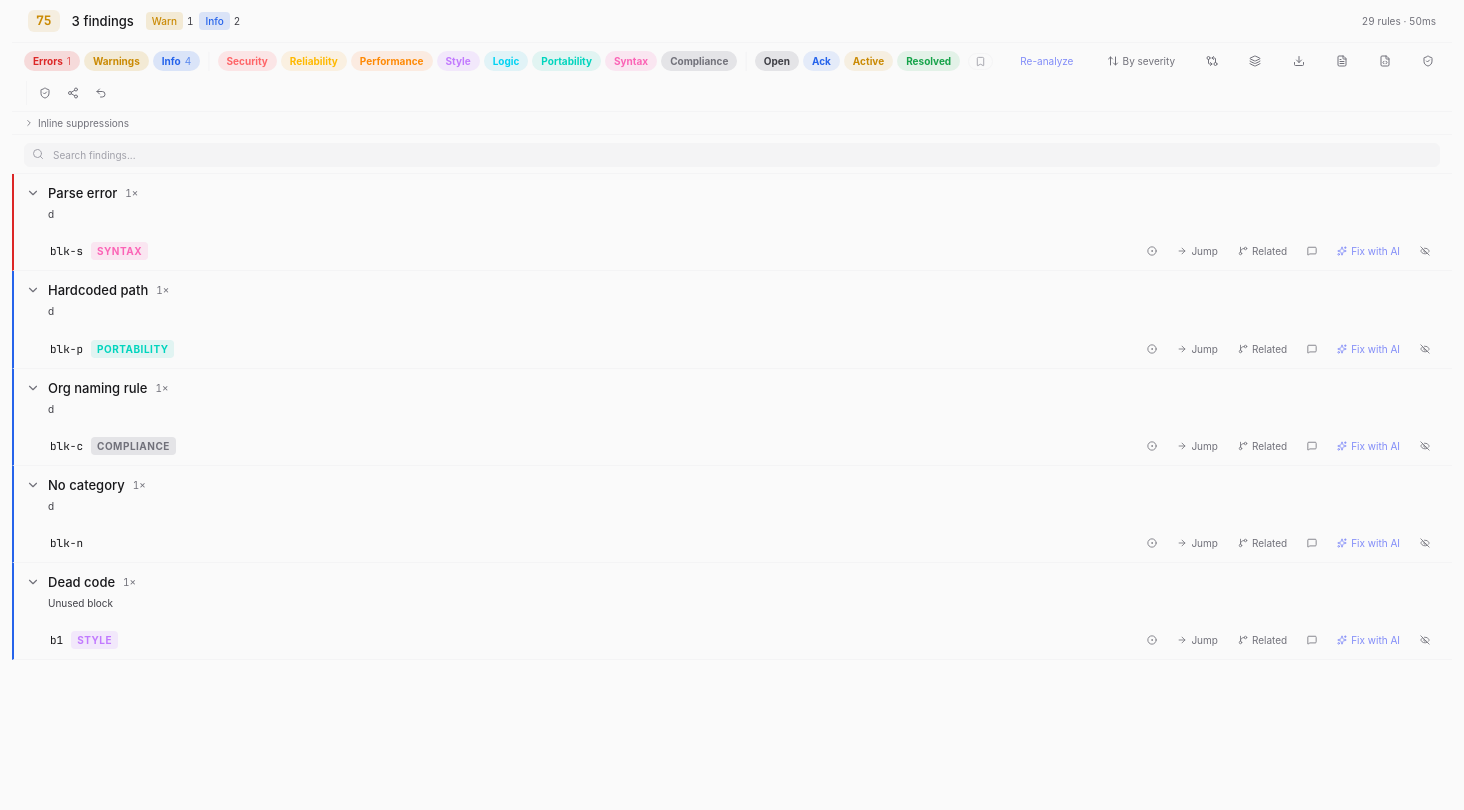
Test: categories and preview findings › applies a view saved by an older bundle without hiding categories it never knew
Check: the text "Dead code" is shown, box [48,573,115,591]
Click the button titled "Saved filter views" at (981, 62), box [968,53,993,70]
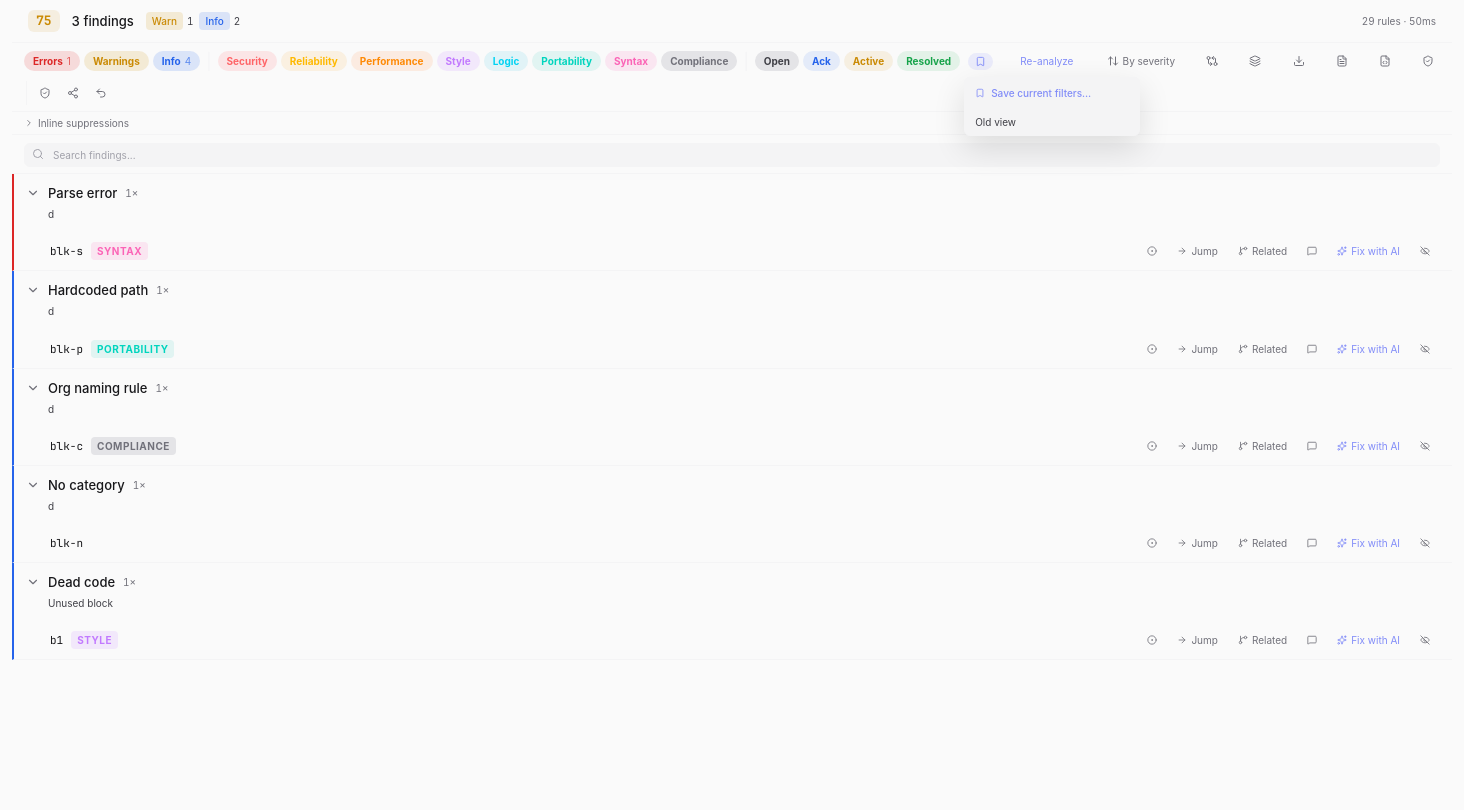
Click the button "Old view" at (1041, 122), box [965,111,1117,133]
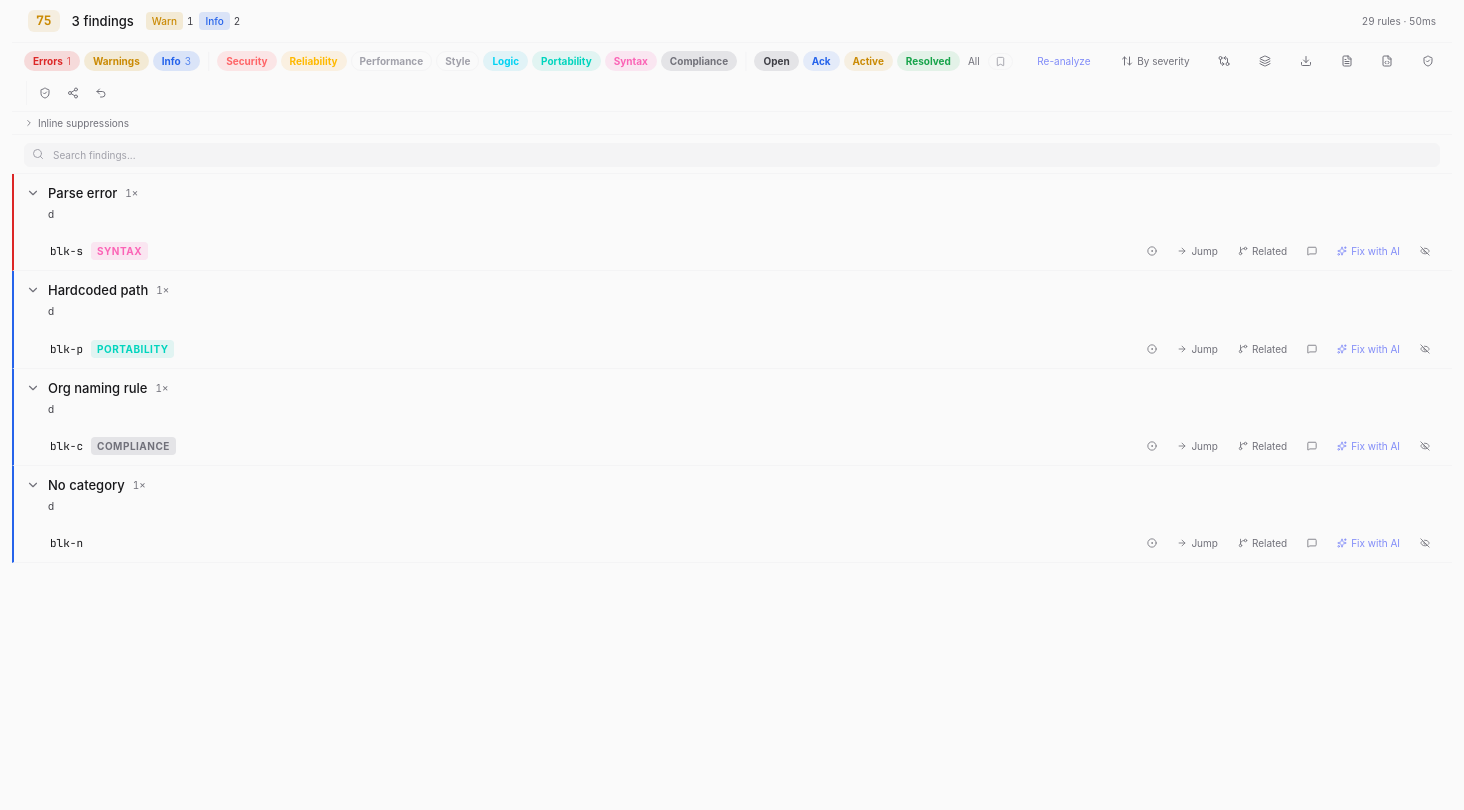
Check: the text "Hardcoded path" is shown, box [48,281,148,299]
Check: the button "Dead code" is gone
